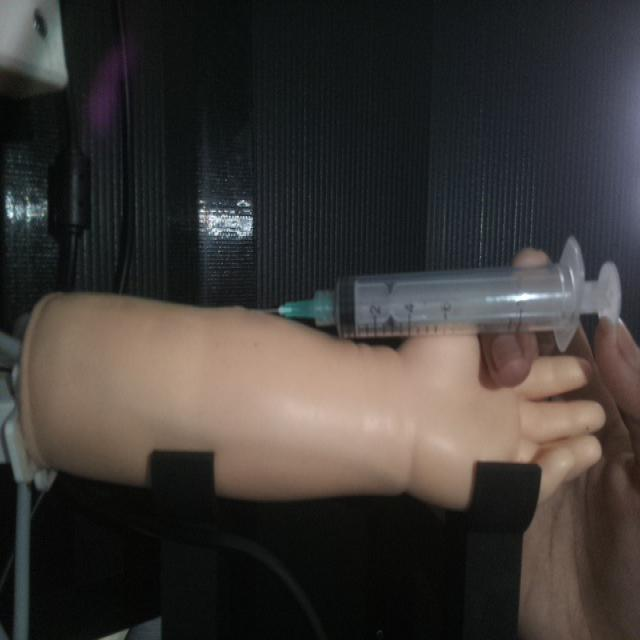Outside: (248, 232, 623, 351)
